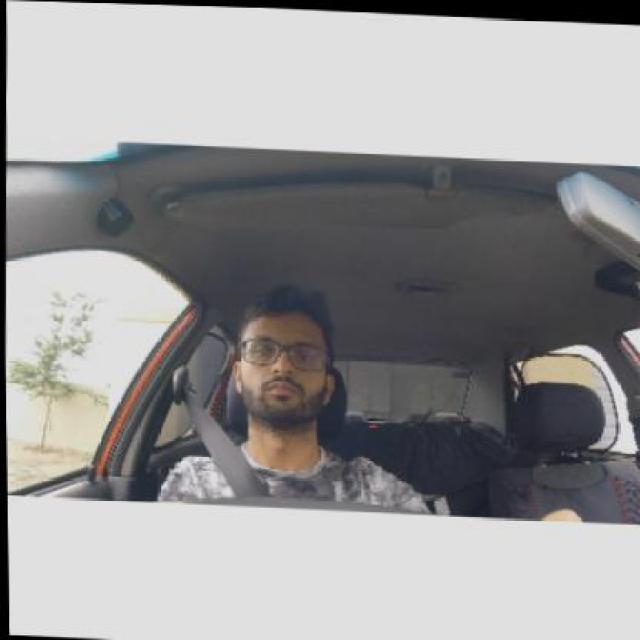person: (223, 282, 342, 422)
